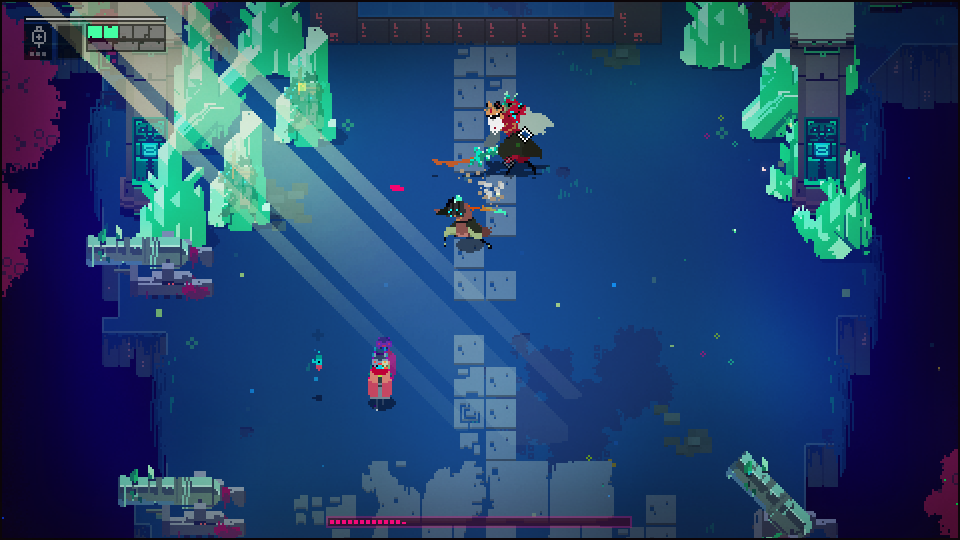hanged_man: (454, 90, 562, 178)
player: (365, 351, 395, 410)
